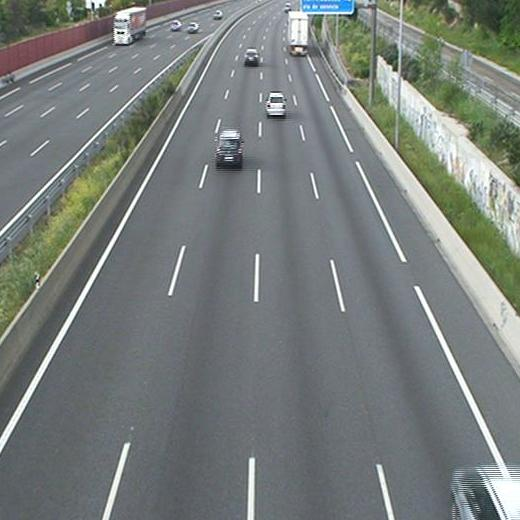car: (215, 129, 243, 168), (264, 92, 287, 118), (244, 47, 259, 66)
truck: (287, 9, 309, 57)
